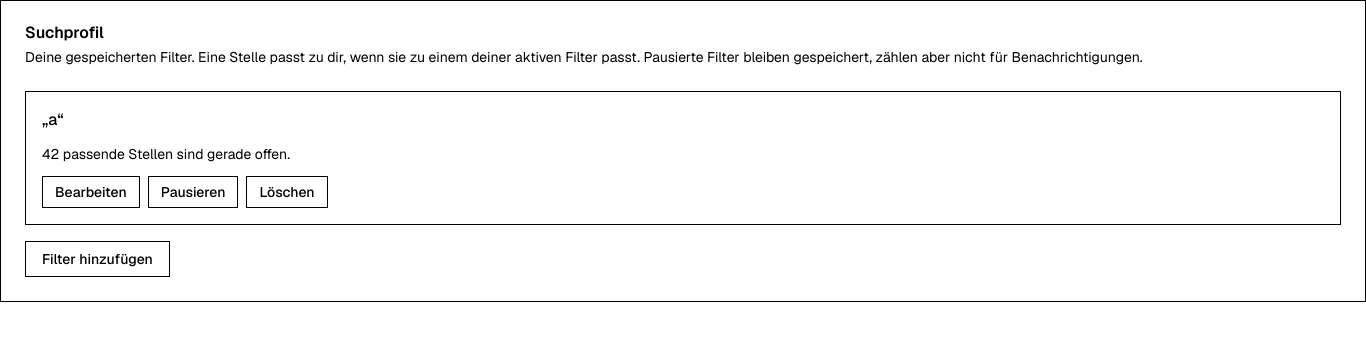
Test: SuchprofileBereich › pausiert einen Filter und meldet das in der Statuszeile
This screenshot has width=1366, height=355.
Click the button "Pausieren": (193, 192) [148, 176, 238, 208]
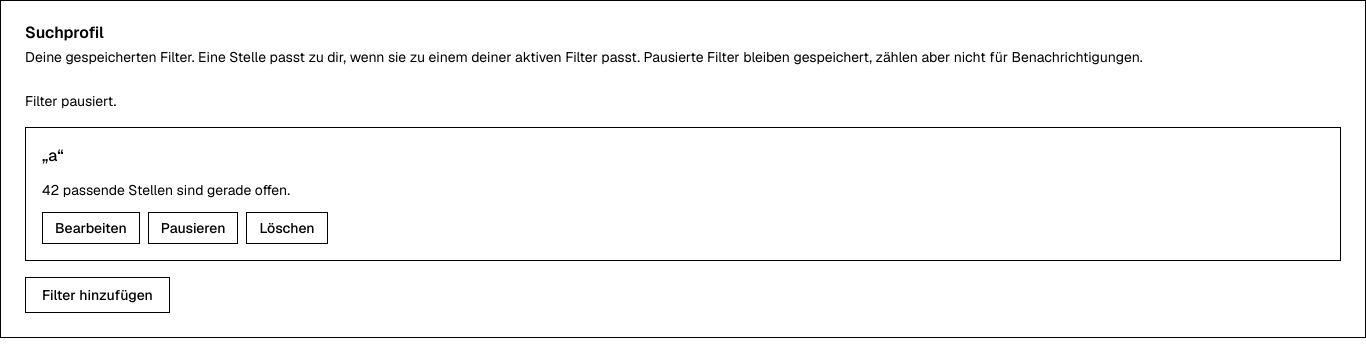
Expected: the text "Filter pausiert." is shown, [25, 92, 116, 110]
